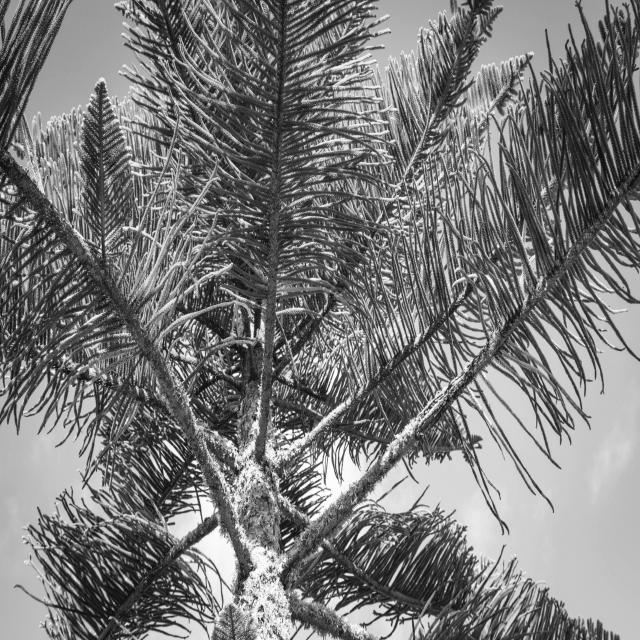Araucaria heterophylla: (0, 6, 640, 640)
